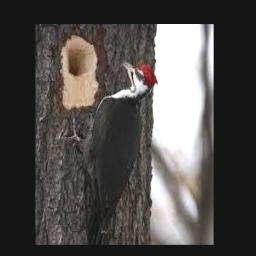Woodpecker: (65, 60, 158, 244)
